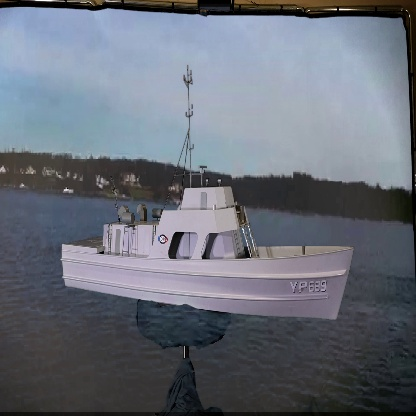YP689: (60, 60, 356, 321)
